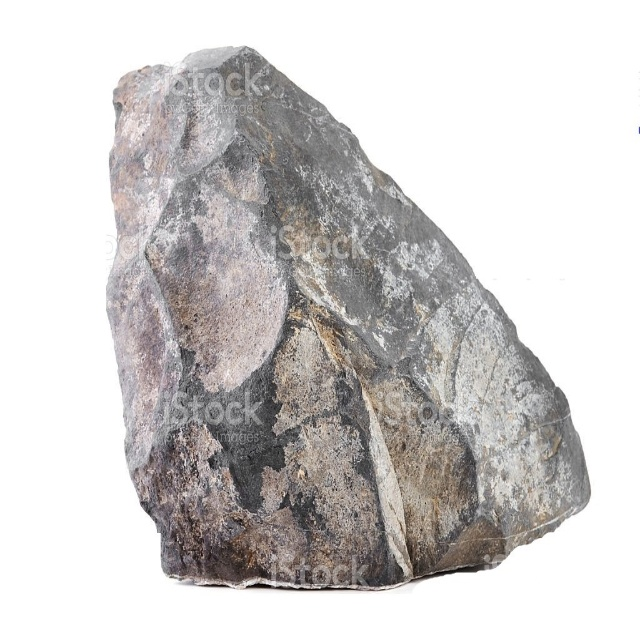obstacle: (108, 48, 589, 587)
